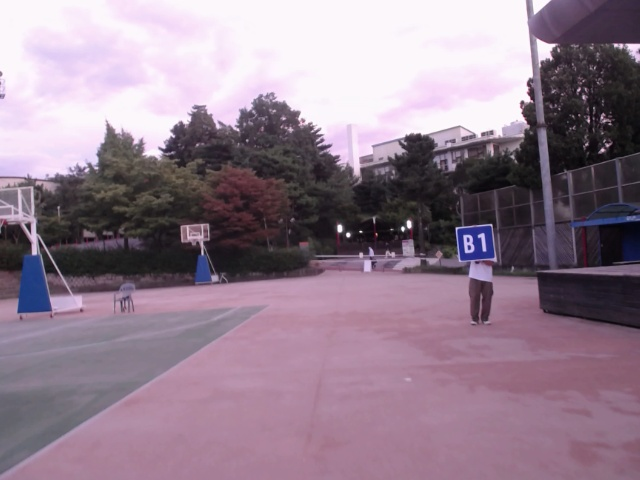delivery_b1: (457, 225, 495, 262)
